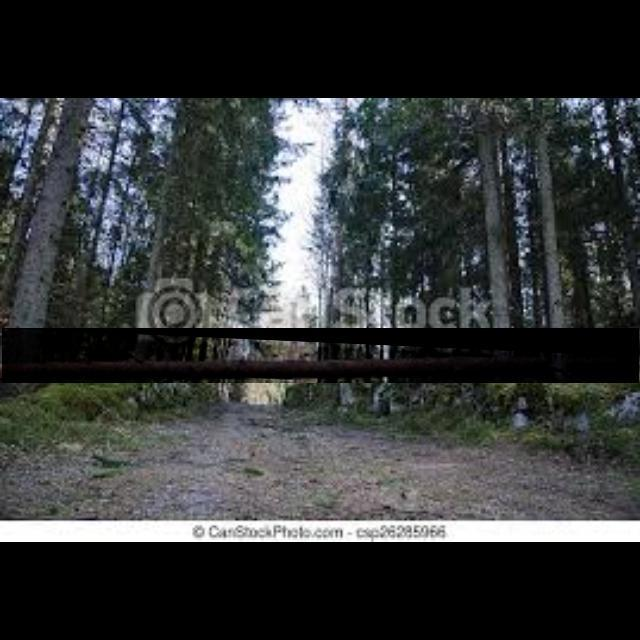fallen_tree: (2, 328, 640, 384)
